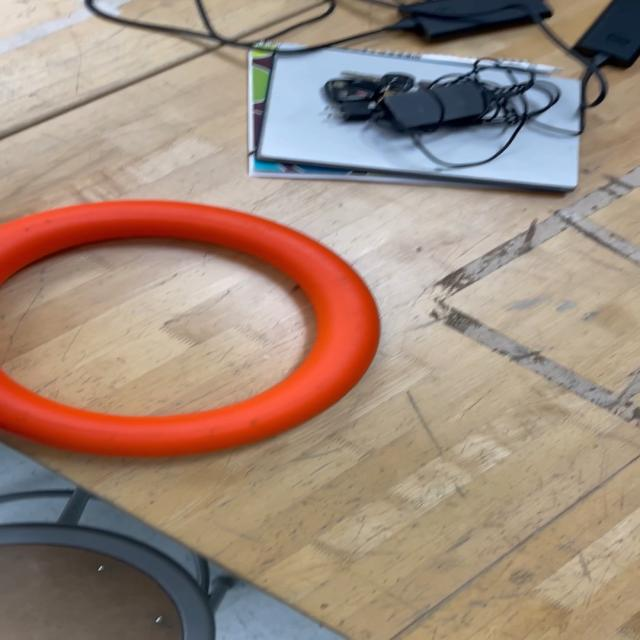note: (0, 195, 378, 446)
